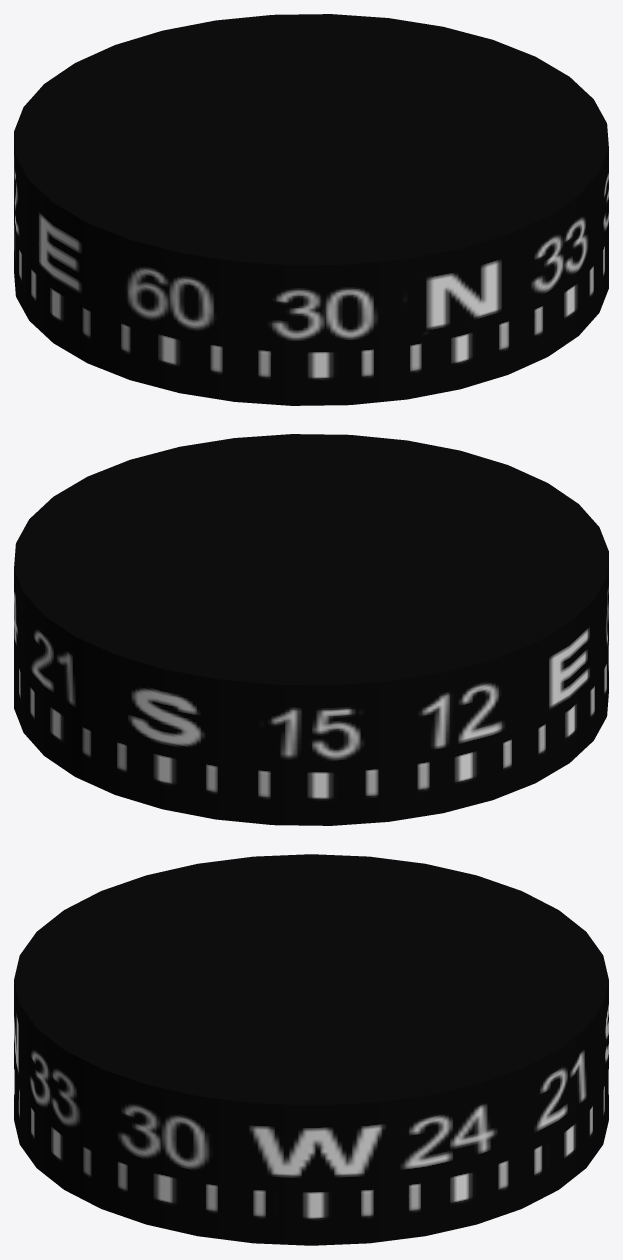
Rendered from gau_compass_wheel.glb.
3 renders of one model, top to bottom at view 1: azimuth 30°, elevation 25°; view 2: azimuth 150°, elevation 25°; view 3: azimuth 270°, elevation 25°, orthographic.
Parts seen in each view (by area): view 1: compass_wheel; view 2: compass_wheel; view 3: compass_wheel.
Boxes of the visible parts, x1,y1,x2,y2 form: compass_wheel: (14, 14, 608, 405); compass_wheel: (14, 434, 608, 825); compass_wheel: (14, 854, 608, 1245).
Size of the model in its own units: 0.077 by 0.02 by 0.077.
2 materials, 1 textured.
